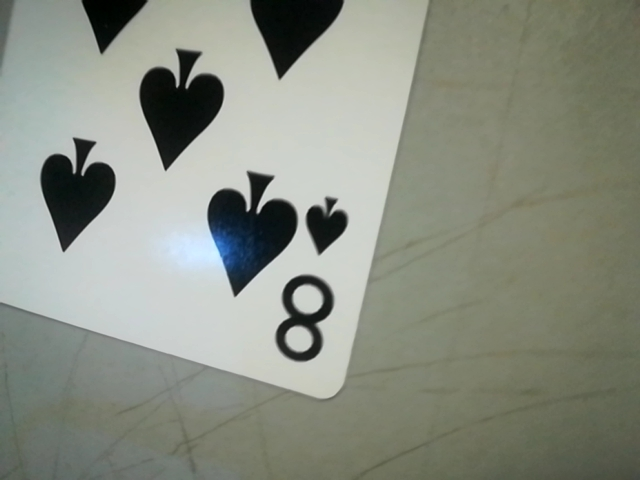ht 8: (268, 178, 360, 384)
